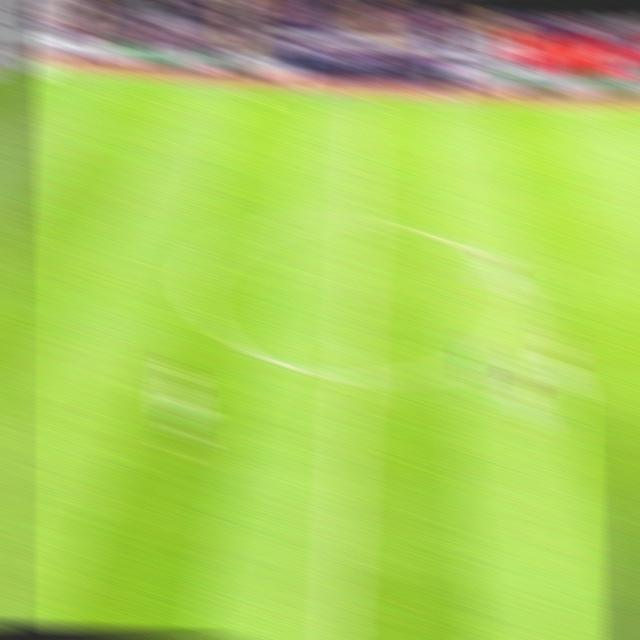halfcircle_bottom: (329, 351, 377, 401)
halfcircle_top: (338, 202, 383, 243)
midline_top_intersection: (345, 77, 387, 117)
